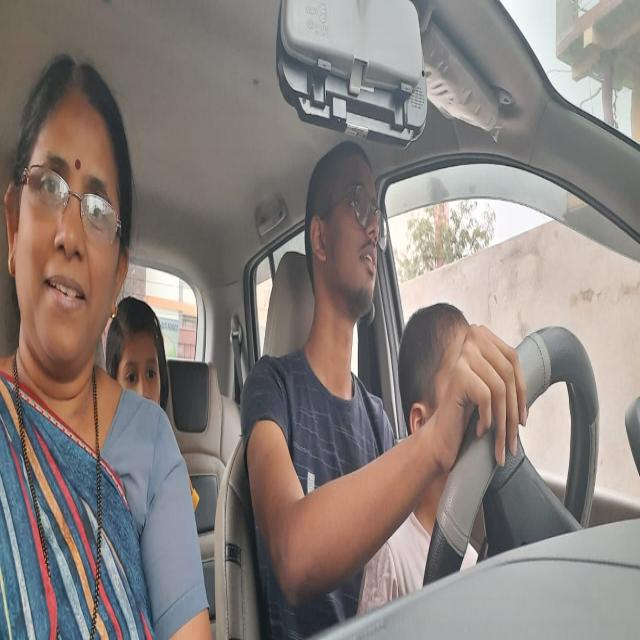child: (399, 308, 467, 425)
person: (0, 49, 138, 392), (304, 143, 388, 333), (106, 289, 174, 403)
